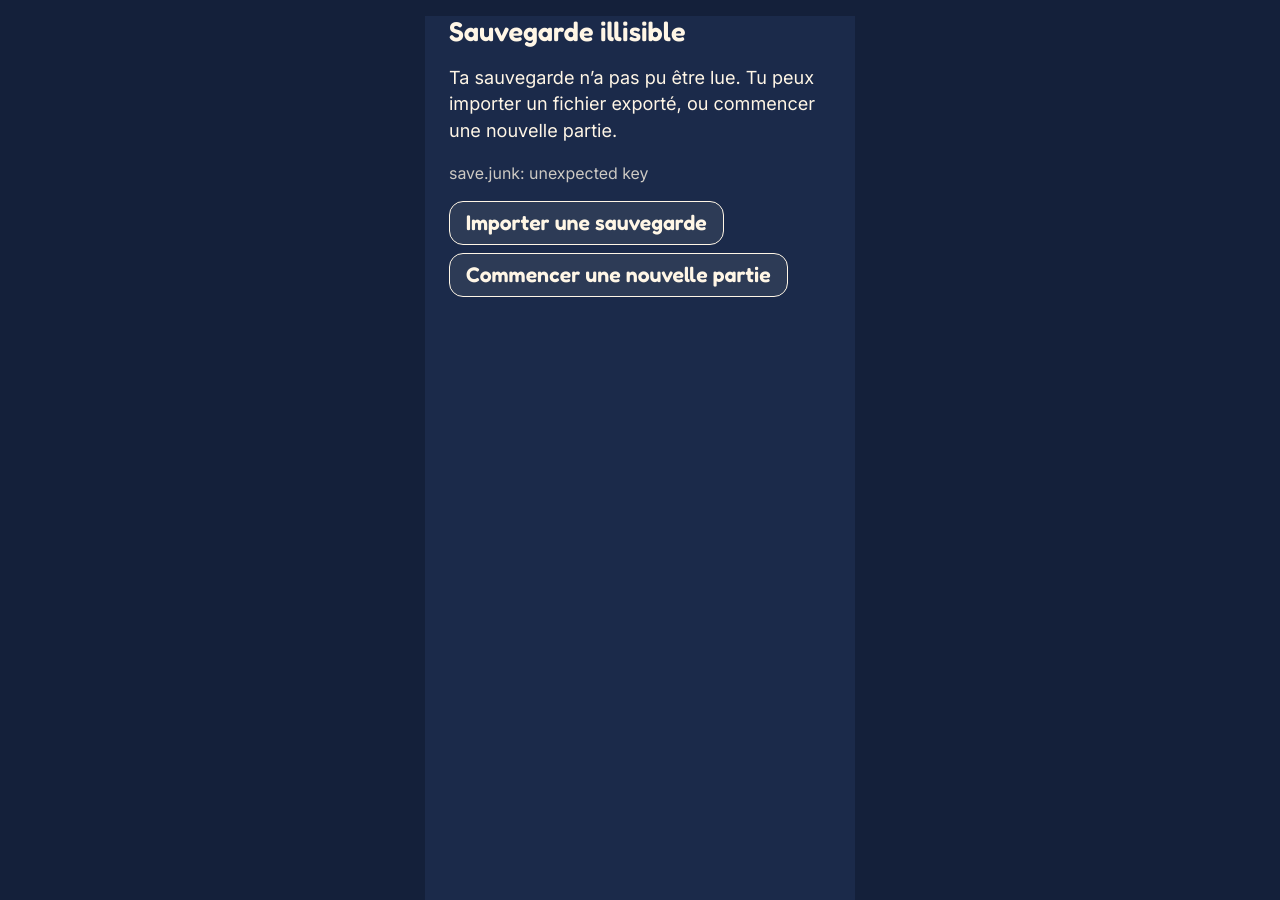
it: recovery screen (DEF-GS-01) › asks for a confirmation listing the losses before starting over
The width and height of the screenshot is (1280, 900).
Later steps or results of the test are not shown.
Expected: the file field labelled "Importer une sauvegarde" is shown, [449, 201, 724, 245]
Click the button "Commencer une nouvelle partie": point(618, 275) [449, 253, 788, 297]
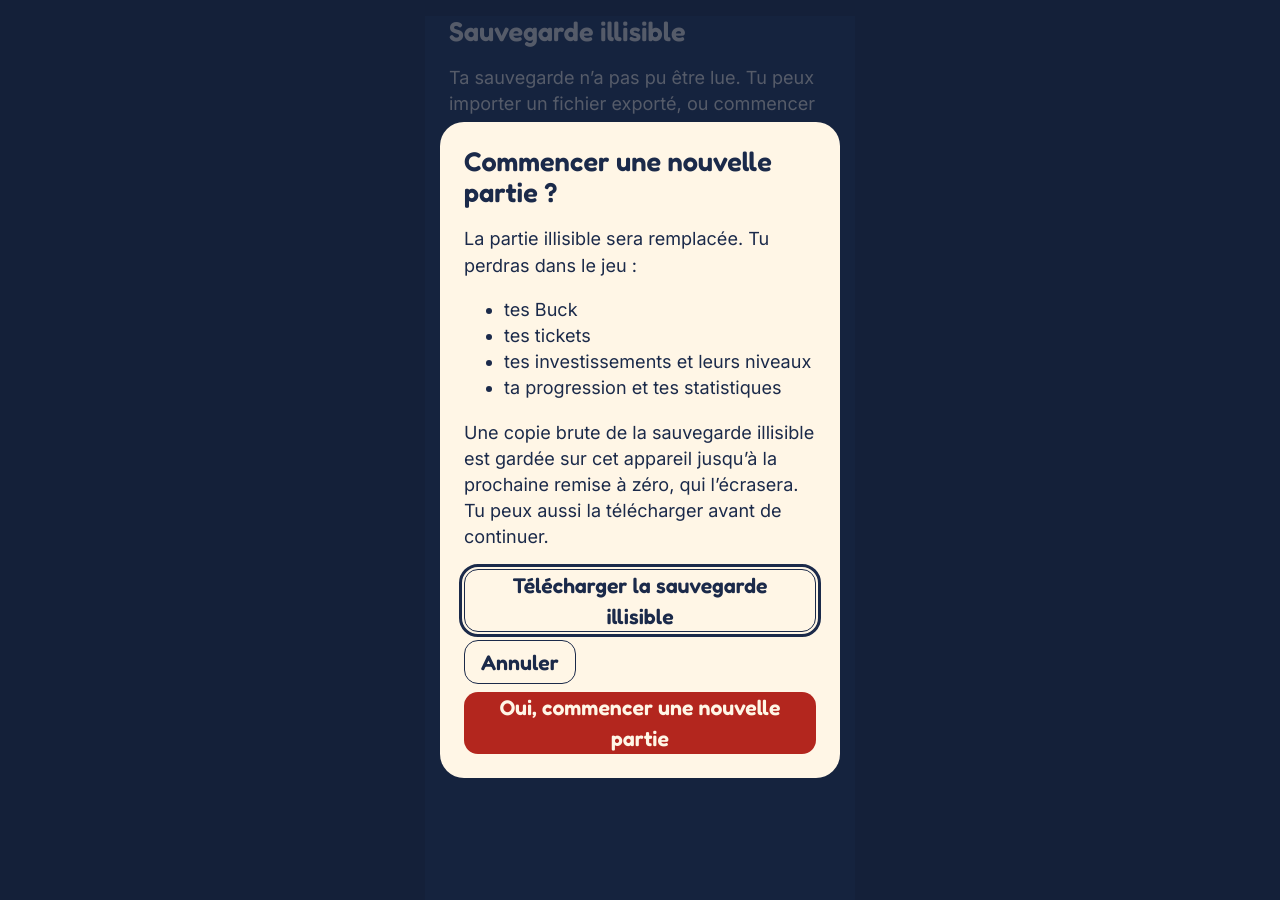
Now the dialog "Commencer une nouvelle partie ?" shows "tes Buck", box [504, 299, 578, 320]
Now the dialog "Commencer une nouvelle partie ?" shows "tes tickets", box [504, 325, 591, 346]
Now the dialog "Commencer une nouvelle partie ?" shows "tes investissements et leurs niveaux", box [504, 351, 811, 372]
